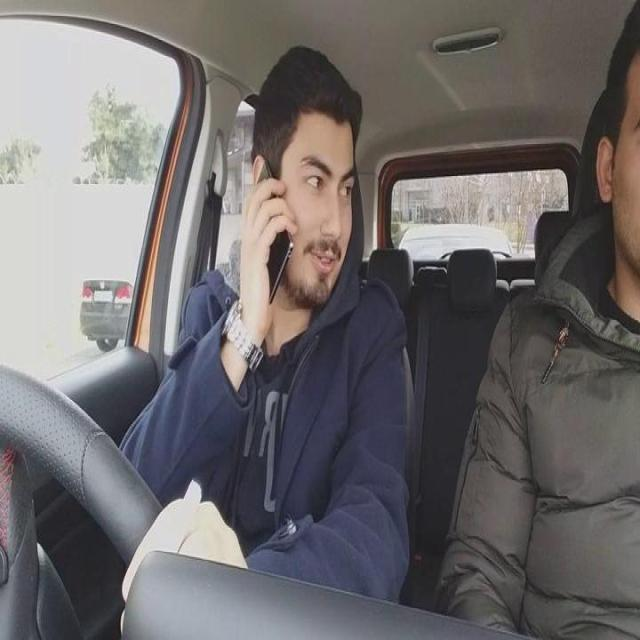phone: (257, 160, 295, 306)
